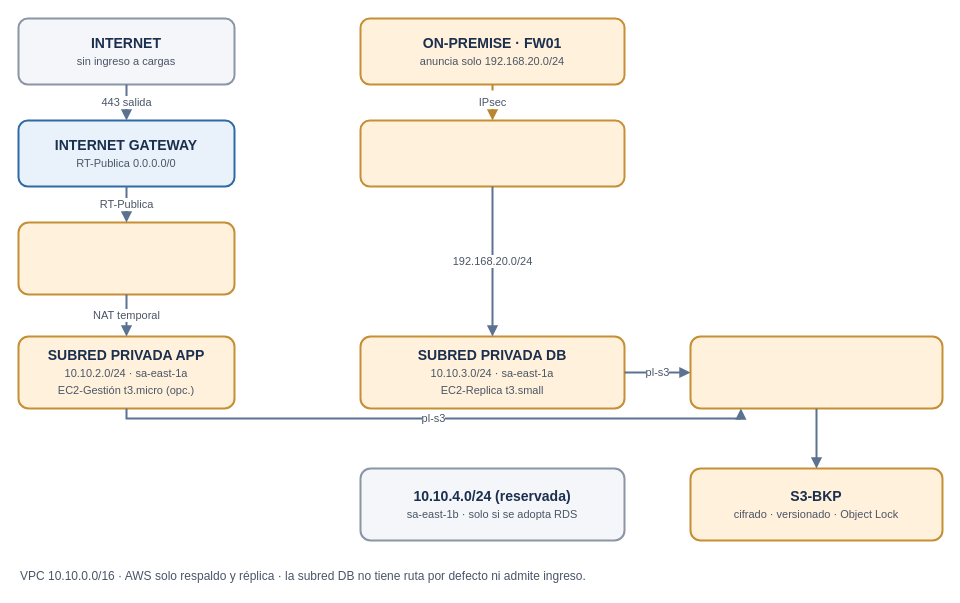
Some shapes in this 960 by 603 pixel diagram are drawn without their labels. The centre of each missing label's shape, as x and y in pixels:
"SUBRED PÚBLICA 10.10.1.0/24 · sa-east-1a NAT Gateway · endpoints SSM" belongs at point (126, 258).
"VPC ENDPOINT S3 gateway · sin costo por hora" belongs at point (816, 372).
"VPN GATEWAY (VGW01) 2 túneles IKEv2 · RT-Privada-DB" belongs at point (492, 153).
